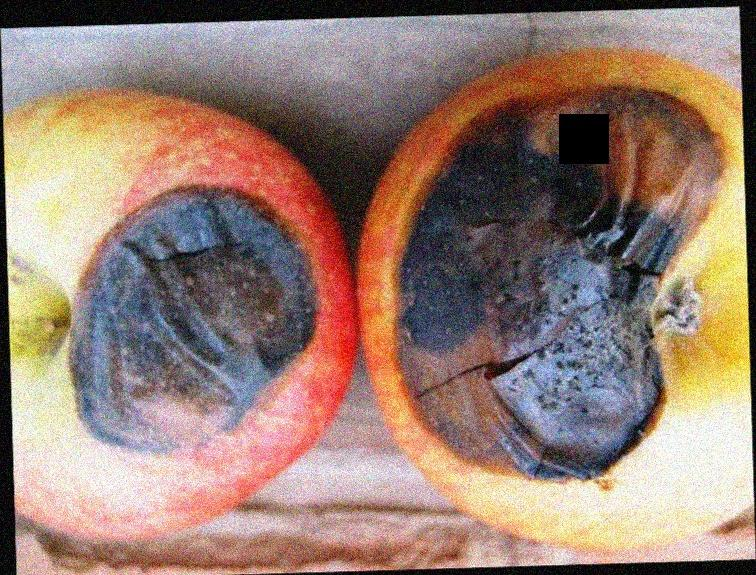rotten apple: (347, 49, 748, 558), (10, 74, 351, 542)
